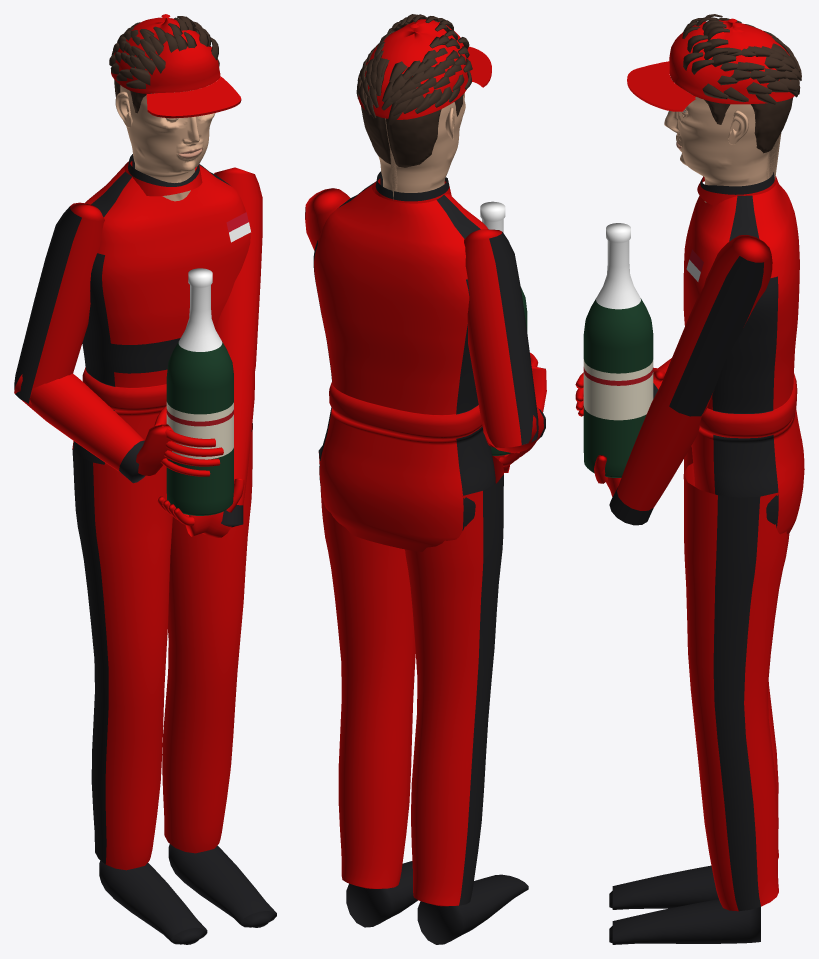
File: LEC.glb
The picture shows the model from 3 angles, left to right: view 1: azimuth 30°, elevation 25°; view 2: azimuth 150°, elevation 25°; view 3: azimuth 270°, elevation 25°; orthographic projection. The views are drawn at different scales.
Parts seen in each view (by area): view 1: legs, torso, bottle, arm_r_mesh, cap, forearm_r_mesh, face, arm_l_mesh, hair_top, hand_r_mesh, forearm_l_mesh, hand_l_mesh; view 2: legs, torso, arm_r_mesh, hair_top, cap, face, hair, arm_l_mesh, bottle, forearm_r_mesh, hand_r_mesh; view 3: legs, torso, bottle, arm_l_mesh, face, cap, forearm_l_mesh, hair_top, hair.
Part boxes in pixels (left/top/right/bottom): legs: left=72, top=423, right=276, bottom=944; torso: left=73, top=154, right=250, bottom=465; bottle: left=166, top=268, right=233, bottom=515; arm_r_mesh: left=14, top=202, right=104, bottom=404; cap: left=111, top=14, right=241, bottom=118; forearm_r_mesh: left=14, top=373, right=145, bottom=483; face: left=115, top=85, right=215, bottom=201; arm_l_mesh: left=214, top=167, right=262, bottom=370; hair_top: left=109, top=16, right=219, bottom=88; hand_r_mesh: left=136, top=406, right=223, bottom=476; forearm_l_mesh: left=221, top=369, right=254, bottom=527; hand_l_mesh: left=157, top=478, right=244, bottom=537; legs: left=318, top=446, right=528, bottom=944; torso: left=313, top=171, right=495, bottom=551; arm_r_mesh: left=464, top=229, right=538, bottom=447; hair_top: left=356, top=14, right=472, bottom=125; cap: left=358, top=19, right=491, bottom=119; face: left=378, top=93, right=465, bottom=199; hair: left=361, top=94, right=463, bottom=167; arm_l_mesh: left=305, top=188, right=350, bottom=250; bottle: left=480, top=201, right=527, bottom=455; forearm_r_mesh: left=483, top=407, right=545, bottom=453; hand_r_mesh: left=530, top=352, right=546, bottom=412; legs: left=609, top=446, right=789, bottom=944; torso: left=683, top=172, right=804, bottom=534; bottle: left=583, top=223, right=653, bottom=477; arm_l_mesh: left=659, top=235, right=772, bottom=416; face: left=664, top=92, right=781, bottom=202; cap: left=627, top=18, right=794, bottom=111; forearm_l_mesh: left=609, top=386, right=702, bottom=525; hair_top: left=682, top=14, right=801, bottom=104; hair: left=704, top=97, right=793, bottom=153.
Size of the model in its own units: 0.508 by 1.84 by 0.4214.
